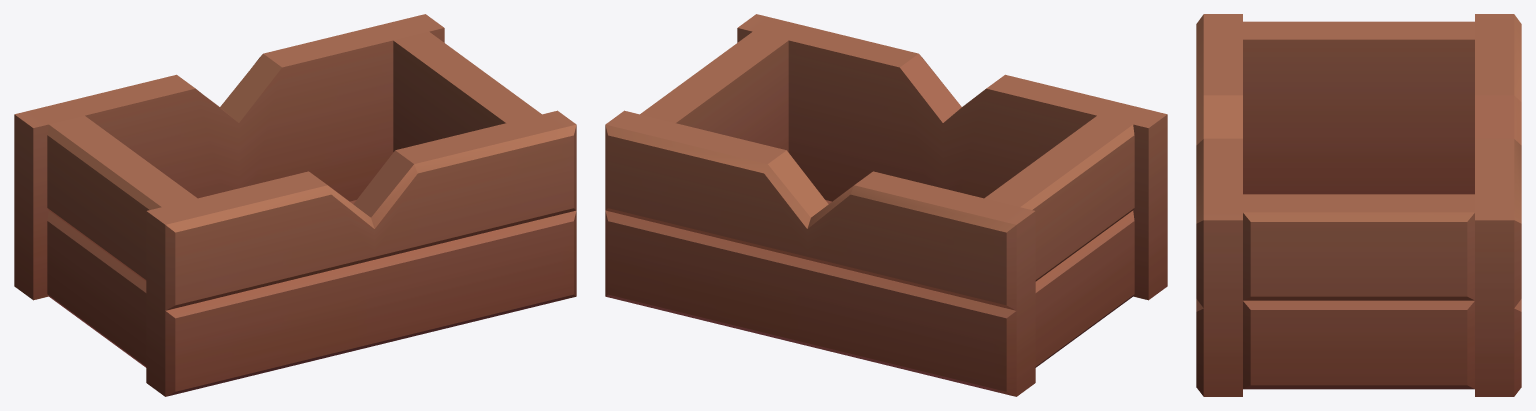
Rendered from crate_small.glb.
3 renders of one model, left to right at view 1: azimuth 30°, elevation 25°; view 2: azimuth 150°, elevation 25°; view 3: azimuth 270°, elevation 25°, orthographic. The views are drawn at different scales.
Parts seen in each view (by area): view 1: crate_small; view 2: crate_small; view 3: crate_small.
Part boxes in pixels (left/top/right/bottom): crate_small: left=14, top=14, right=576, bottom=396; crate_small: left=605, top=14, right=1167, bottom=396; crate_small: left=1196, top=14, right=1521, bottom=396.
Size of the model in its own units: 1.5 by 0.5999 by 1.
Materials: 1 (1 with a texture image).
